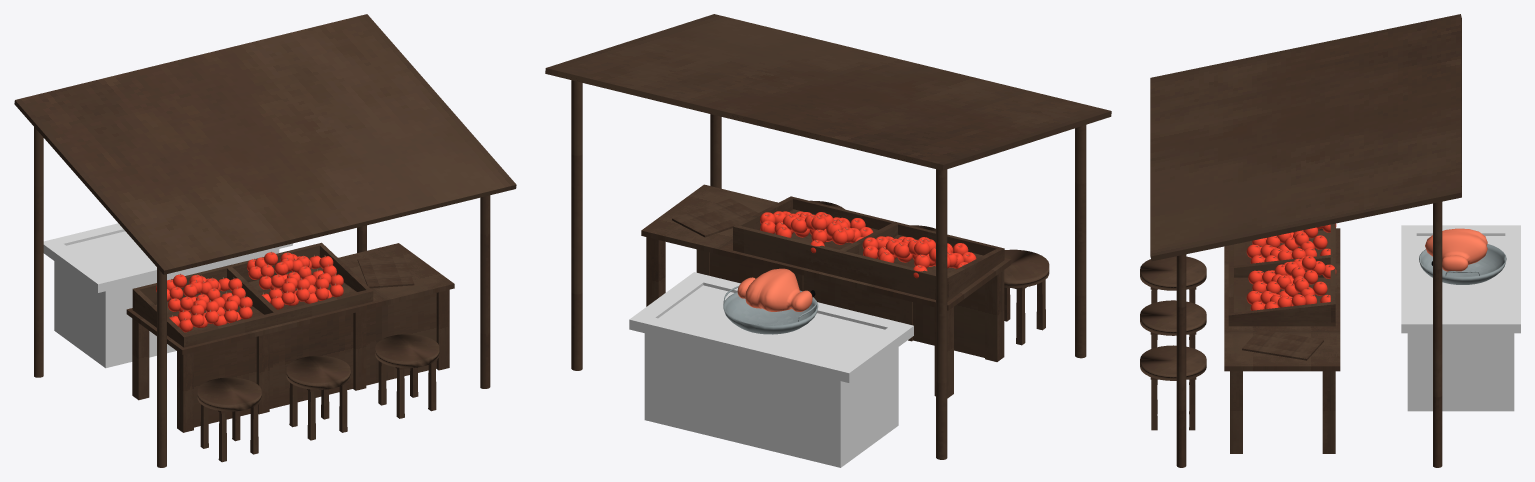
Rendered from FoodStall.fbx.
3 views of the same model, side by side, from view 1: azimuth 30°, elevation 25°; view 2: azimuth 150°, elevation 25°; view 3: azimuth 270°, elevation 25° (orthographic). The views are drawn at different scales.
Parts seen in each view (by area): view 1: Plane.003; view 2: Plane.003; view 3: Plane.003.
Boxes of the visible parts, box(x1,y1,x2,y2) form: Plane.003: box(14, 14, 516, 467); Plane.003: box(545, 14, 1111, 467); Plane.003: box(1140, 14, 1520, 467).
Size of the model in its own units: 1390 by 1020 by 1252.
